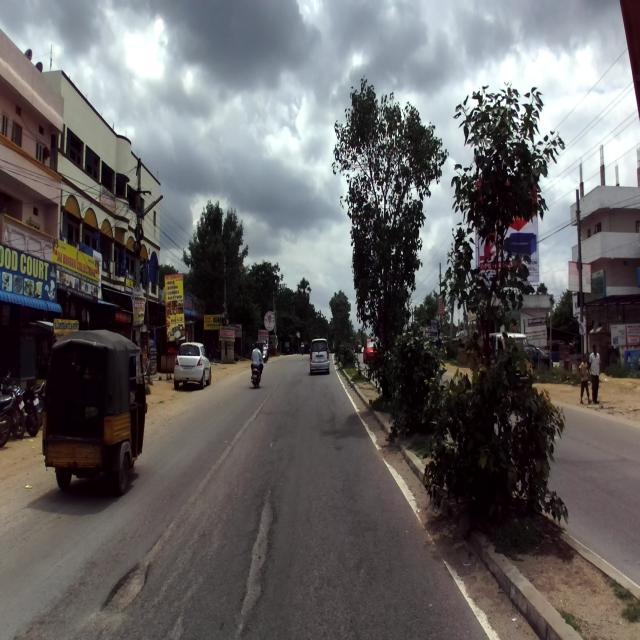Pothole: (248, 458, 304, 640), (91, 552, 197, 640)
